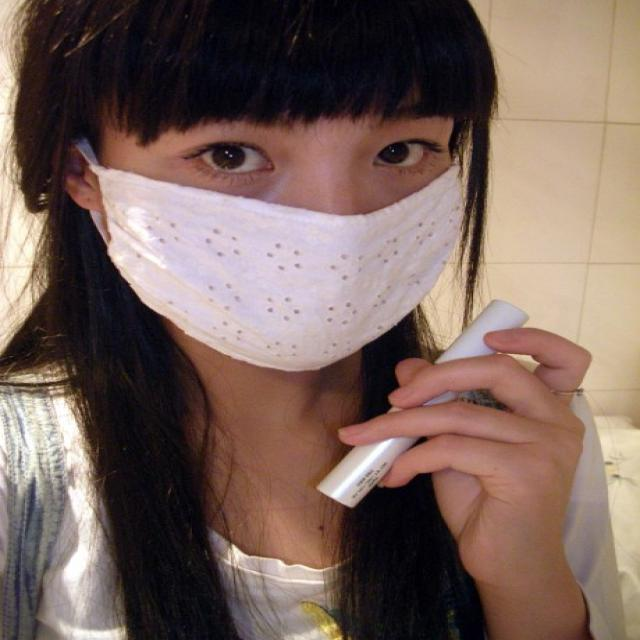mask: (103, 117, 462, 372)
